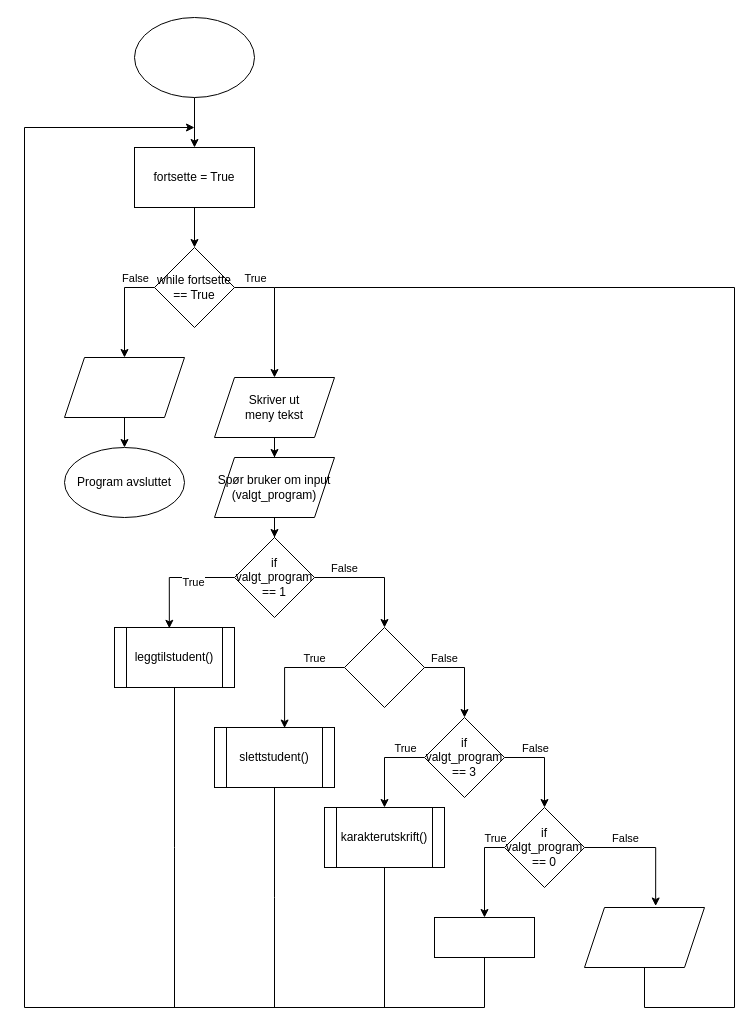
This 753x1033 diagram has some shape labels left out. Each missing label, with the centre of its shape:
"Fortsette = False" belongs at [484,937].
"if valgt_program == 2" belongs at [384,667].
"Programstart main()" belongs at [194,57].
"Skriver ut at bruker må bruke gyldige tallverdier (1,2,3 og 0)" belongs at [644,937].
"skriver ut at programmet er avsluttet" belongs at [124,387].
